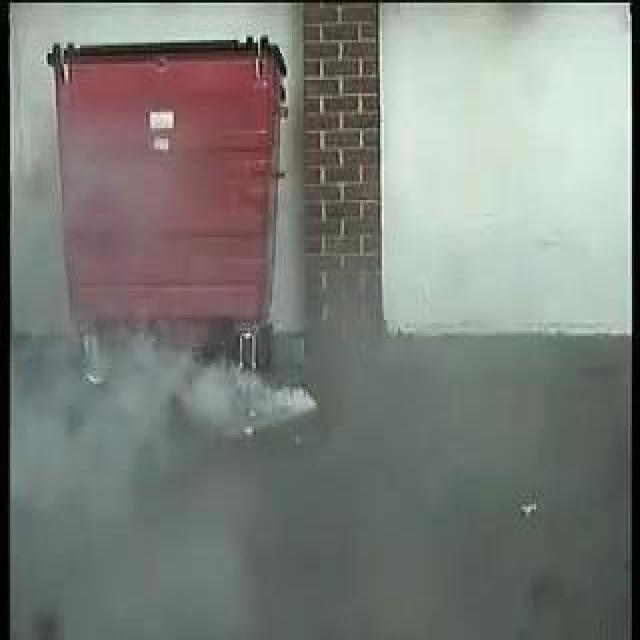Smoke: (113, 346, 313, 434)
